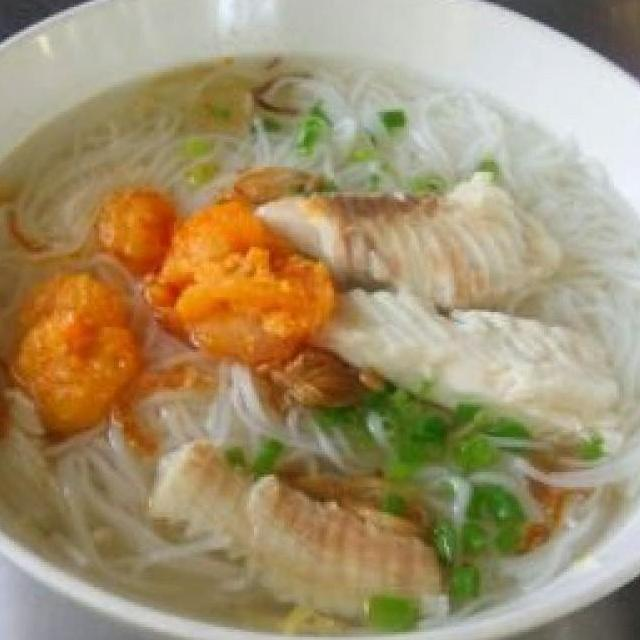bun: (30, 39, 588, 190), (0, 70, 219, 312), (513, 146, 640, 503), (0, 437, 156, 583)
bun ca: (0, 0, 640, 640)
ca: (130, 424, 477, 635), (310, 277, 636, 455), (234, 161, 566, 320)
tom: (130, 191, 338, 372), (5, 265, 154, 444), (86, 180, 182, 284)
